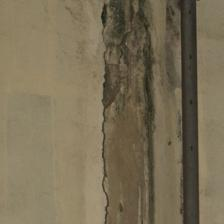Crack: (48, 3, 73, 218)
